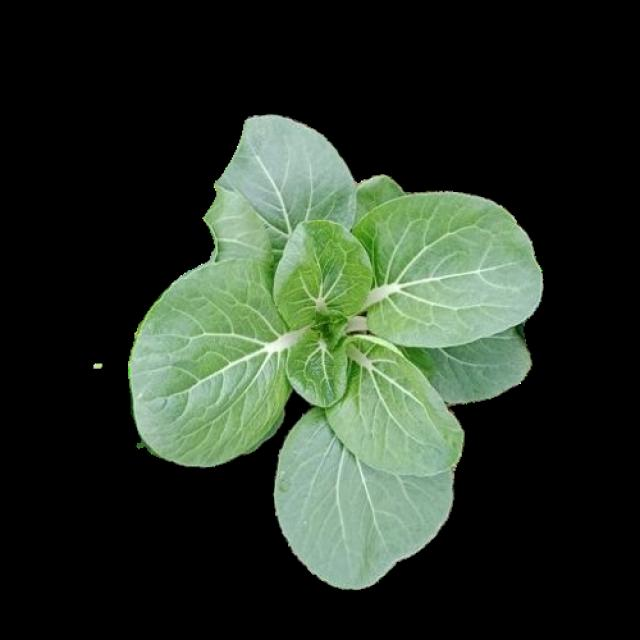healthy: (129, 110, 536, 585)
mature: (129, 112, 534, 584)
